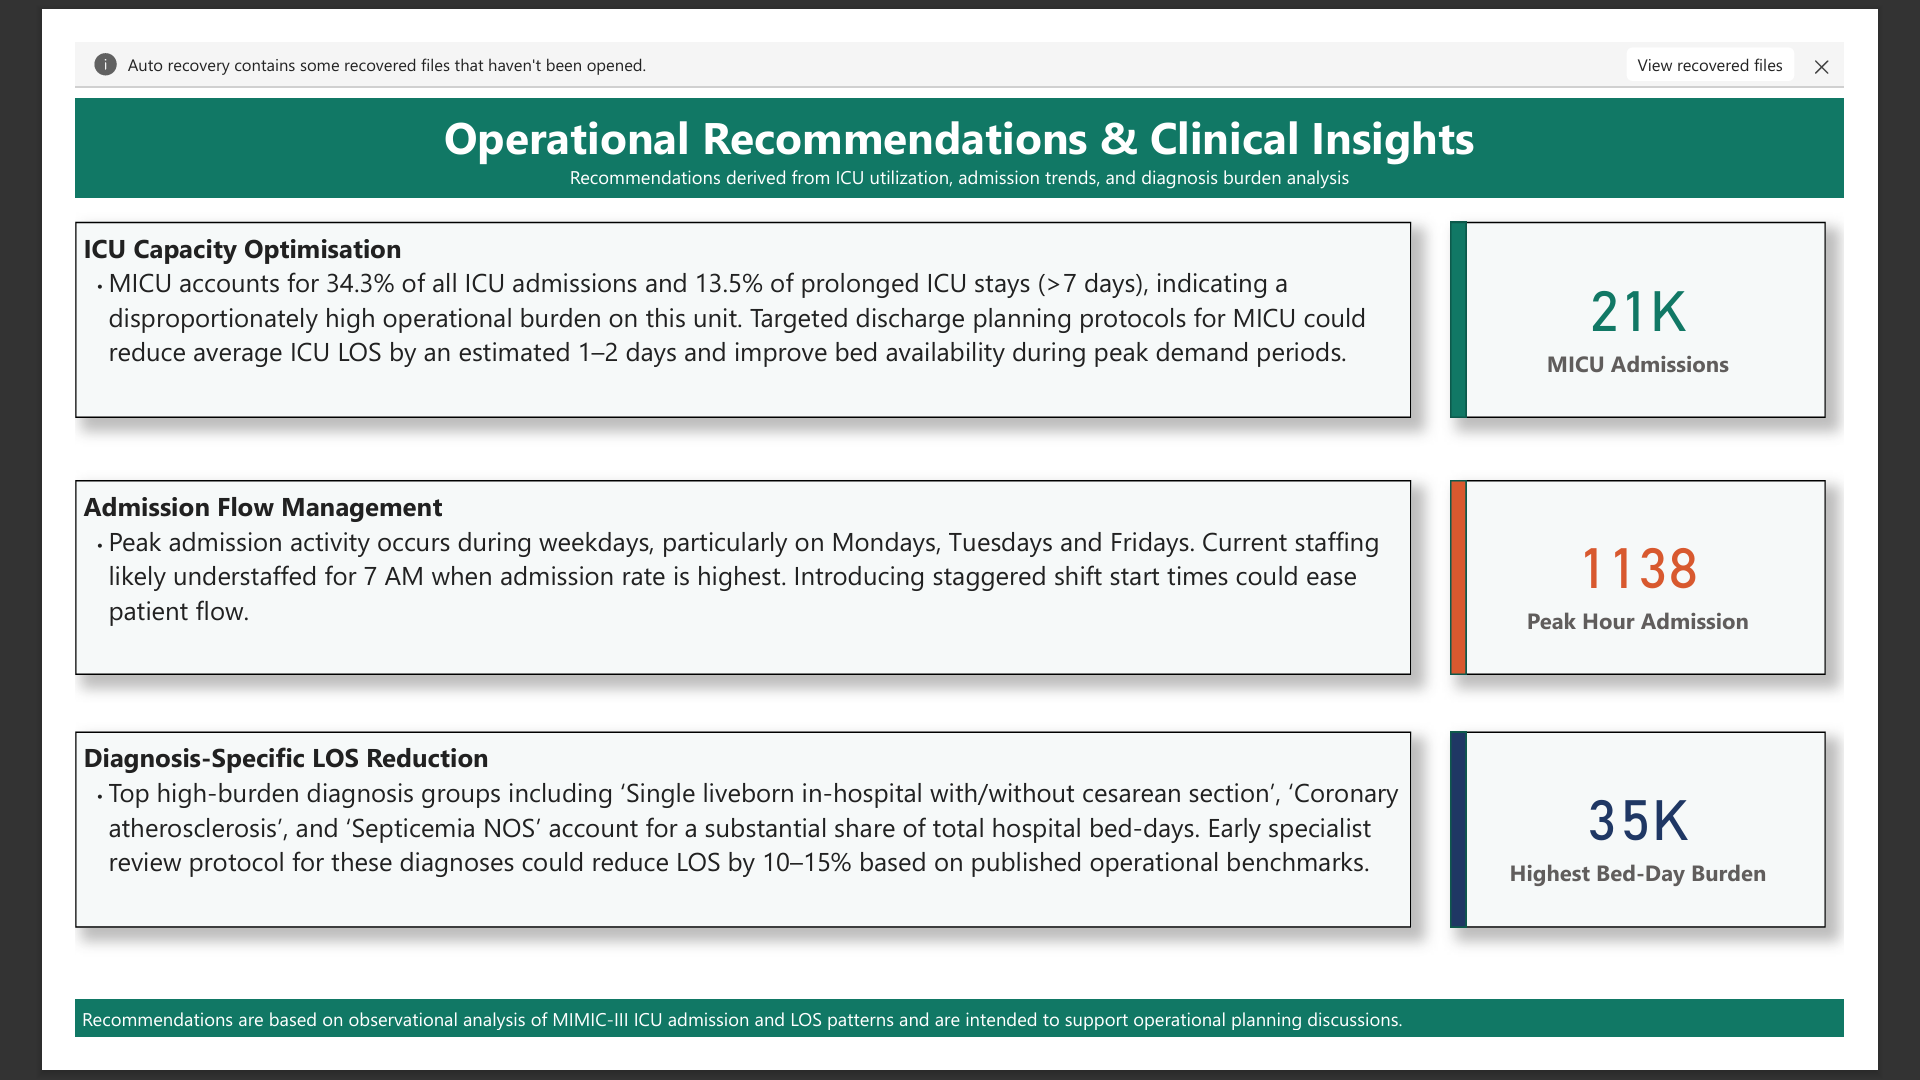

The page's visual inventory and layout, read from the dashboard file:
{"tool":"powerbi","page":{"name":"Recommendations","canvas":[1280,720],"ordinal":4},"visuals":[{"type":"textbox","box":[0,41.2,1280.3,71.4],"z":0},{"type":"textbox","box":[0,130.4,967.4,141.3],"z":1000},{"type":"card","fields":{"Values":["Sum(ICU_performance.total_stays)"]},"box":[994.9,130.4,271.7,141.3],"z":2000},{"type":"textbox","box":[0,317,967.4,141.3],"z":3000},{"type":"card","fields":{"Values":["Sum(Admission_heatmap.admission_count)"]},"box":[994.9,317,271.7,141.3],"z":4000},{"type":"textbox","box":[0,499.5,967.4,141.3],"z":5000},{"type":"card","fields":{"Values":["Sum(Top_diagnoses.total_bed_days)"]},"box":[994.9,499.5,271.7,141.3],"z":6000},{"type":"shape","box":[994.9,130.4,12.3,141.3],"z":7000},{"type":"shape","box":[994.9,317,12.3,141.3],"z":8000},{"type":"shape","box":[994.9,499.5,12.3,141.3],"z":9000},{"type":"textbox","box":[0,693,1280.3,27.4],"z":10000}]}

Visuals, with their boxes on the page's 1280x720 design canvas (x1, y1, x2, y2). These are canvas units, not pixel positions in the 1920x1080 screenshot, which may show the page scaled, cropped or inside an application window:
textbox: left=0, top=41, right=1280, bottom=113
textbox: left=0, top=130, right=967, bottom=272
card - Sum(ICU_performance.total_stays): left=995, top=130, right=1267, bottom=272
textbox: left=0, top=317, right=967, bottom=458
card - Sum(Admission_heatmap.admission_count): left=995, top=317, right=1267, bottom=458
textbox: left=0, top=500, right=967, bottom=641
card - Sum(Top_diagnoses.total_bed_days): left=995, top=500, right=1267, bottom=641
shape: left=995, top=130, right=1007, bottom=272
shape: left=995, top=317, right=1007, bottom=458
shape: left=995, top=500, right=1007, bottom=641
textbox: left=0, top=693, right=1280, bottom=720
